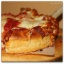pizza: (1, 8, 58, 49)
